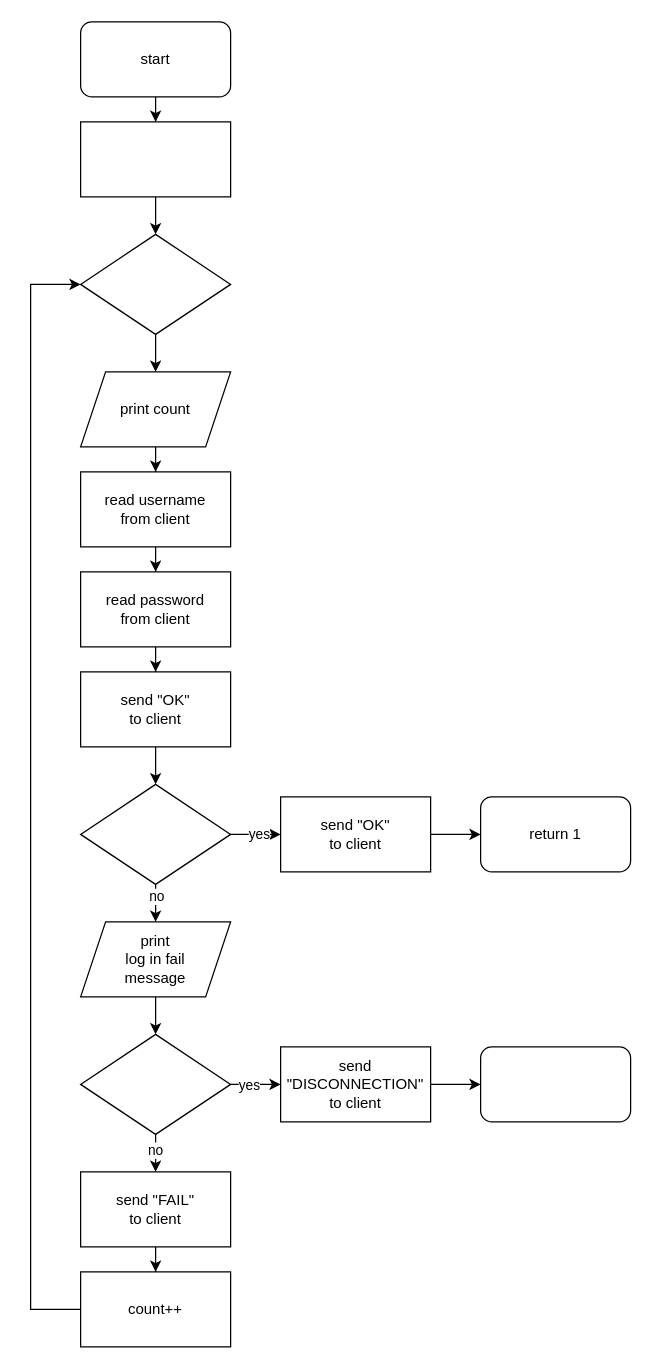
Some shapes in this 653 by 1369 pixel diagram are drawn without their labels. The shapes that lost their labels are listed below. From the top down, each one's box as (x1, y1, x2, y2) in pixels, then its label:
(79, 121, 231, 197): count = 1
(79, 233, 231, 334): TRUE
(79, 783, 231, 884): user_match return 1?
(79, 1033, 231, 1134): count == 3?
(479, 1046, 631, 1122): return 0
